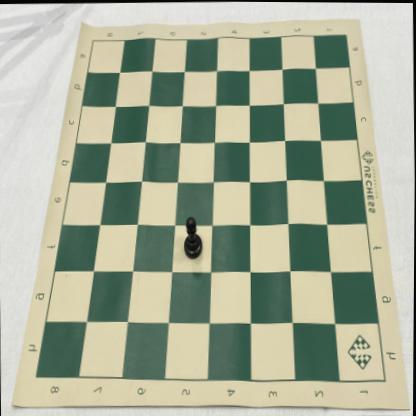black-pawn: (182, 214, 204, 260)
